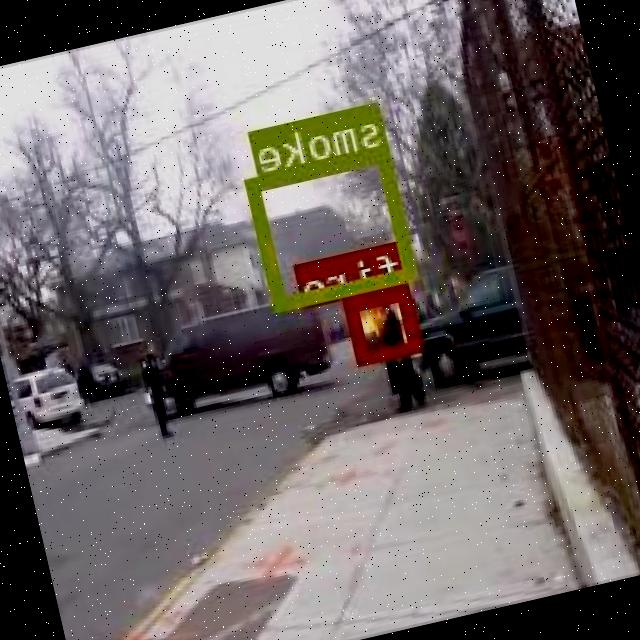fire: (346, 284, 424, 362)
smoke: (247, 143, 420, 307)
